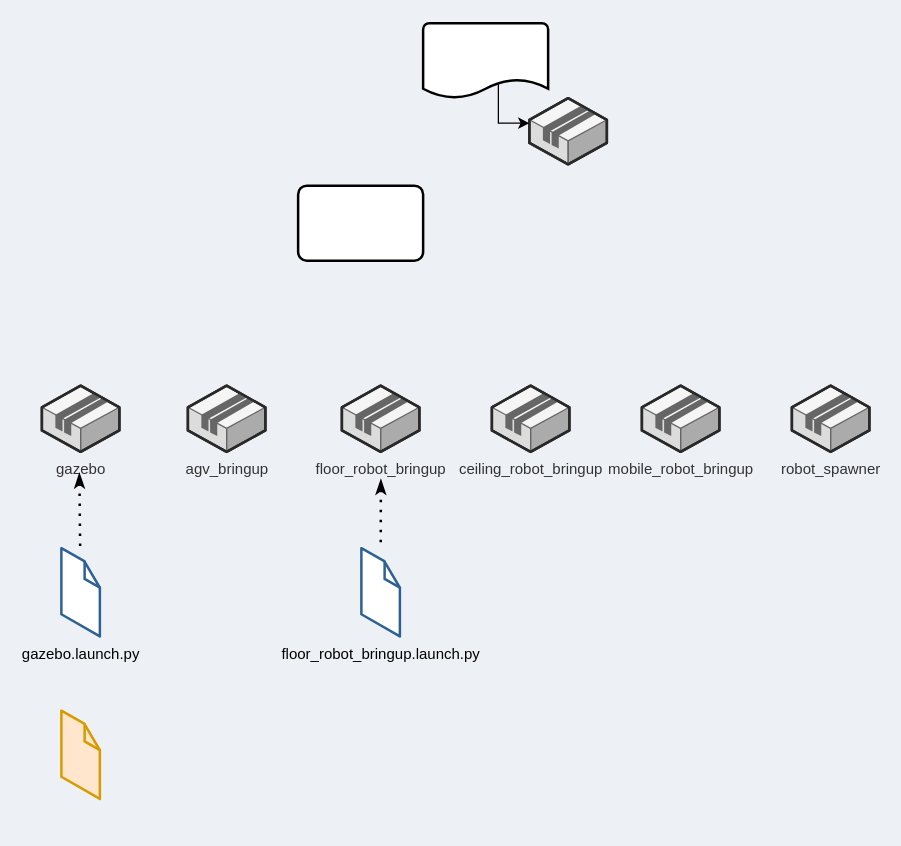
The diagram is 901 pixels wide and 846 high, and some of its shapes have lost their labels. The centre of each missing label's shape, as x and y in pixels:
"ariac.world" belongs at point (80, 754).
"parse YAML configuration file" belongs at point (360, 222).
"part_spawner" belongs at point (567, 130).
